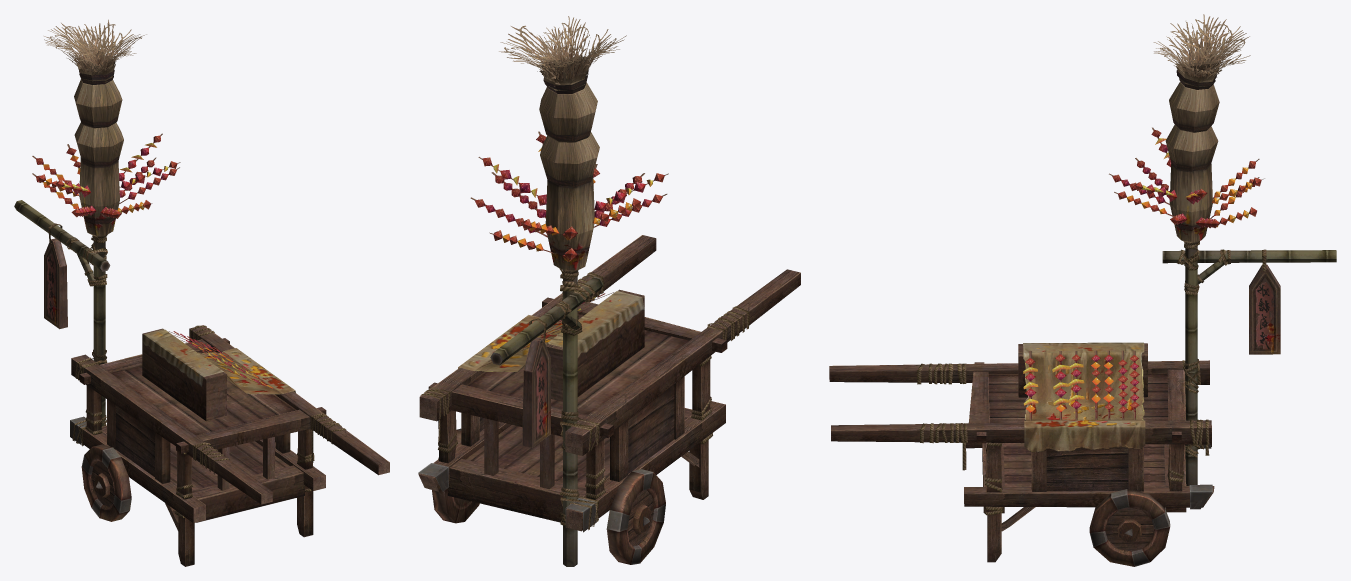
File: 糖葫芦摊01.fbx
The picture shows the model from 3 angles, left to right: view 1: azimuth 30°, elevation 25°; view 2: azimuth 150°, elevation 25°; view 3: azimuth 270°, elevation 25°; orthographic projection. The views are drawn at different scales.
Visible parts, largest first — view 1: qingmo_obj_009 [10484261]; view 2: qingmo_obj_009 [10484261]; view 3: qingmo_obj_009 [10484261].
Part boxes in pixels (<box>): qingmo_obj_009 [10484261]: <box>14,19,389,566</box>; qingmo_obj_009 [10484261]: <box>418,16,800,566</box>; qingmo_obj_009 [10484261]: <box>829,14,1336,566</box>.
Bounding box in the file's own units: 9.78 × 21.59 × 21.92.
Materials: 2 (2 with a texture image).
